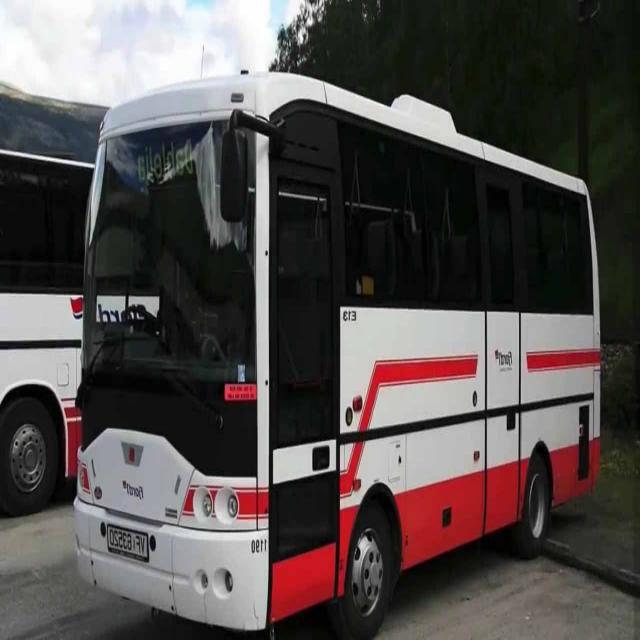bus: (71, 70, 604, 640)
